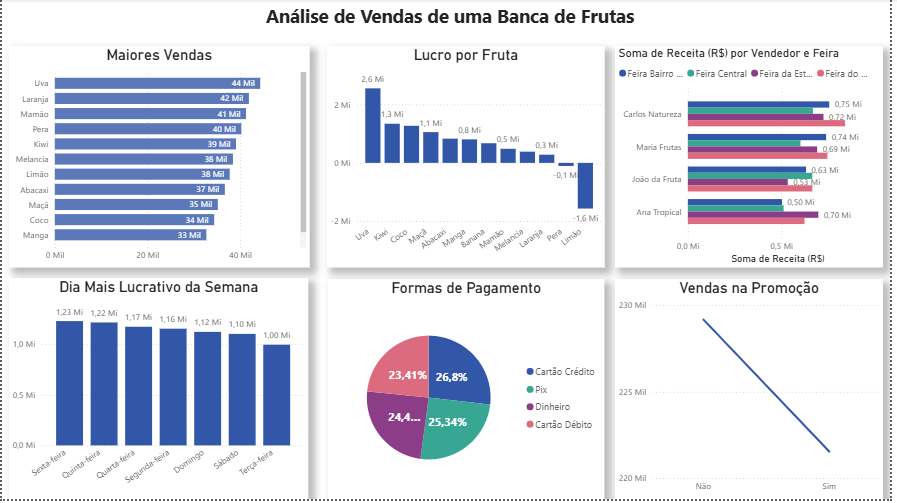

This screenshot's page, from the dashboard's own definition file:
{"tool":"powerbi","page":{"name":"Vendas","canvas":[1280,720],"ordinal":0},"visuals":[{"type":"textbox","box":[10.1,0,1269.9,67.2],"z":0},{"type":"barChart","title":"Maiores Vendas","fields":{"Category":["Vendas_Frutas_2024.Nome da Fruta"],"Y":["Vendas_Frutas_2024.Quantidade Vendida (kg)"]},"box":[10.4,67.1,432.6,319.3],"z":1000},{"type":"columnChart","title":"Lucro por Fruta","fields":{"Category":["Vendas_Frutas_2024.Nome da Fruta"],"Y":["Vendas_Frutas_2024.Lucro"]},"box":[468.4,67.1,399.8,319.3],"z":1001},{"type":"clusteredColumnChart","title":"Dia Mais Lucrativo da Semana ","fields":{"Category":["Vendas_Frutas_2024.Dia da Semana PT"],"Y":["Vendas_Frutas_2024.Lucro"]},"box":[10.4,401.3,431.1,319.3],"z":1002},{"type":"pieChart","title":"Formas de Pagamento","fields":{"Category":["Vendas_Frutas_2024.Forma de Pagamento"],"Y":["Vendas_Frutas_2024.Quantidade Vendida (kg)"]},"box":[469.9,402.8,398.3,317.8],"z":1003},{"type":"clusteredBarChart","fields":{"Category":["Vendas_Frutas_2024.Vendedor"],"Y":["Vendas_Frutas_2024.Receita (R$)"],"Series":["Vendas_Frutas_2024.Feira"]},"box":[883.2,67.1,386.4,319.3],"z":1004},{"type":"lineChart","title":"Vendas na Promoção","fields":{"Category":["Vendas_Frutas_2024.Promoção?"],"Y":["Vendas_Frutas_2024.Quantidade Vendida (kg)"]},"box":[883,403,386,317],"z":1005}]}

Visuals, with their boxes in screenshot pixels (x1, y1, x2, y2), scaled from the page's 1280x720 canvas onto the 897x503 screenshot:
textbox: pyautogui.locateOnScreen(7, 0, 896, 47)
"Maiores Vendas" barChart: pyautogui.locateOnScreen(7, 47, 310, 270)
"Lucro por Fruta" columnChart: pyautogui.locateOnScreen(328, 47, 608, 270)
"Dia Mais Lucrativo da Semana " clusteredColumnChart: pyautogui.locateOnScreen(7, 280, 309, 502)
"Formas de Pagamento" pieChart: pyautogui.locateOnScreen(329, 281, 608, 502)
clusteredBarChart - Vendas_Frutas_2024.Vendedor x Vendas_Frutas_2024.Receita (R$): pyautogui.locateOnScreen(619, 47, 890, 270)
"Vendas na Promoção" lineChart: pyautogui.locateOnScreen(619, 282, 889, 502)
